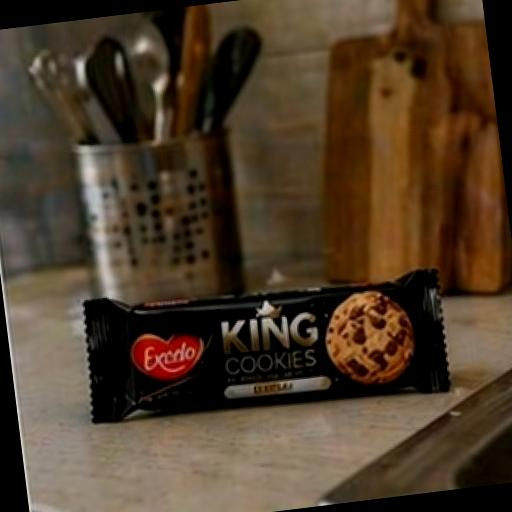king-cooking: (51, 206, 512, 480)
